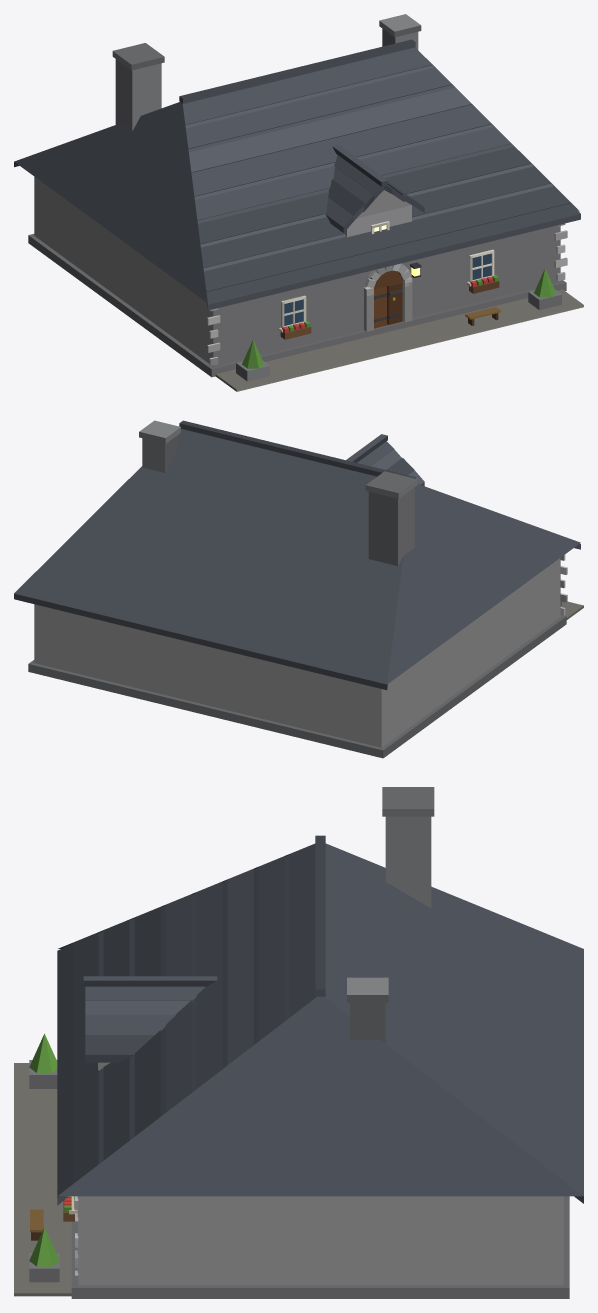
Rendered from stonehaven_cottage.glb.
3 renders of one model, top to bottom at view 1: azimuth 30°, elevation 25°; view 2: azimuth 150°, elevation 25°; view 3: azimuth 270°, elevation 25°, orthographic. The views are drawn at different scales.
Parts seen in each view (by area): view 1: stonehaven_cottage_body, stonehaven_cottage_ground; view 2: stonehaven_cottage_body; view 3: stonehaven_cottage_body, stonehaven_cottage_ground.
Boxes of the visible parts, x1,y1,x2,y2 form: stonehaven_cottage_body: [14, 14, 580, 381]; stonehaven_cottage_ground: [215, 289, 583, 391]; stonehaven_cottage_body: [14, 420, 580, 758]; stonehaven_cottage_body: [29, 787, 583, 1298]; stonehaven_cottage_ground: [14, 1063, 71, 1296].
Size of the model in its own units: 17.1 by 9.65 by 16.65.
